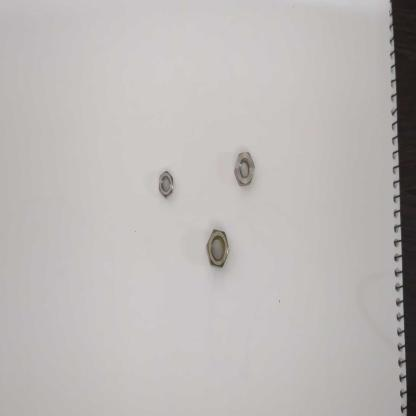NUTS: (204, 226, 232, 271), (233, 148, 257, 190), (156, 169, 175, 200)
